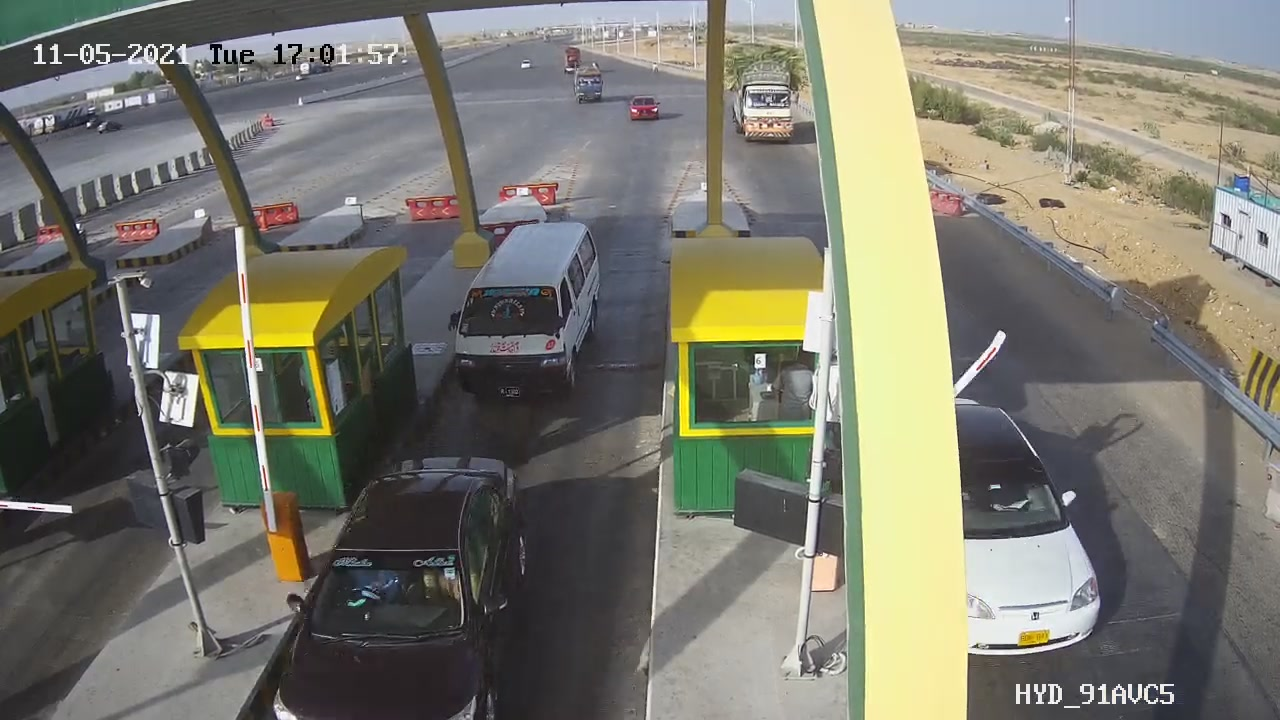F2: (440, 209, 621, 429)
